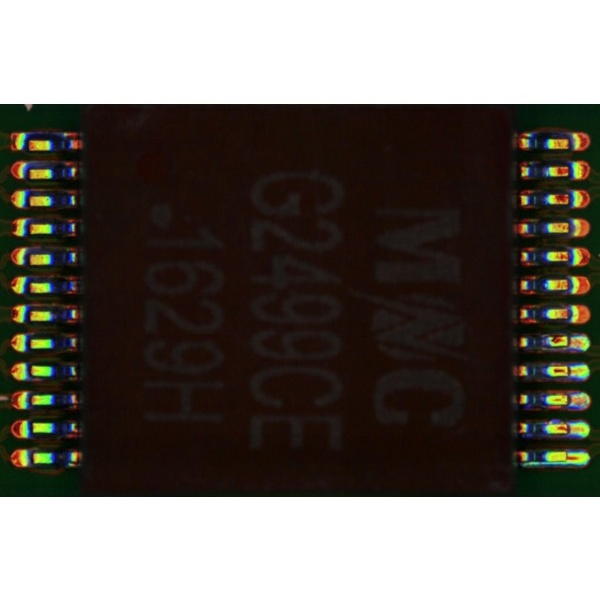Bad_podu: (563, 393, 576, 405), (563, 335, 575, 346), (563, 365, 576, 375), (562, 454, 577, 461), (564, 424, 575, 432)
Bad_qiaojiao: (522, 461, 567, 467), (540, 345, 567, 352)
